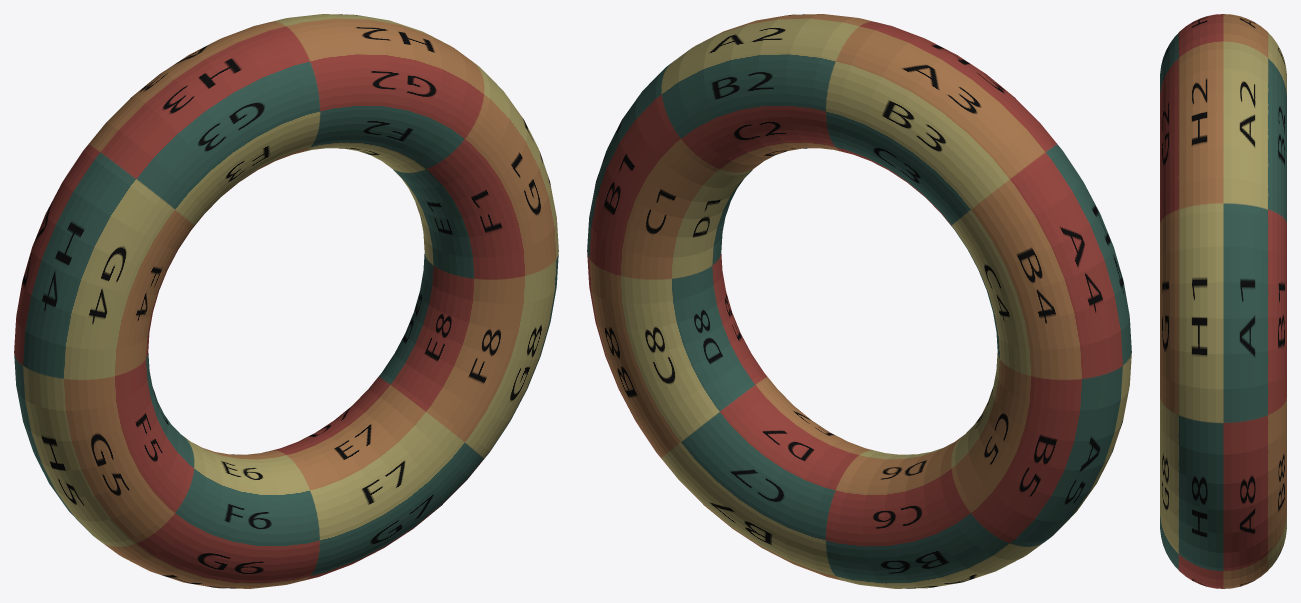
Rendered from texture_torus_R21_r18.glb.
The picture shows the model from 3 angles, left to right: view 1: azimuth 30°, elevation 25°; view 2: azimuth 150°, elevation 25°; view 3: azimuth 270°, elevation 25°; orthographic projection. The views are drawn at different scales.
Parts seen in each view (by area): view 1: world; view 2: world; view 3: world.
Part boxes in pixels (x1,y1,x2,y2): world: [14, 14, 558, 588]; world: [587, 14, 1131, 588]; world: [1160, 14, 1286, 588].
Size of the model in its own units: 30.8 by 30.74 by 6.79.
Materials: 1 (1 with a texture image).
